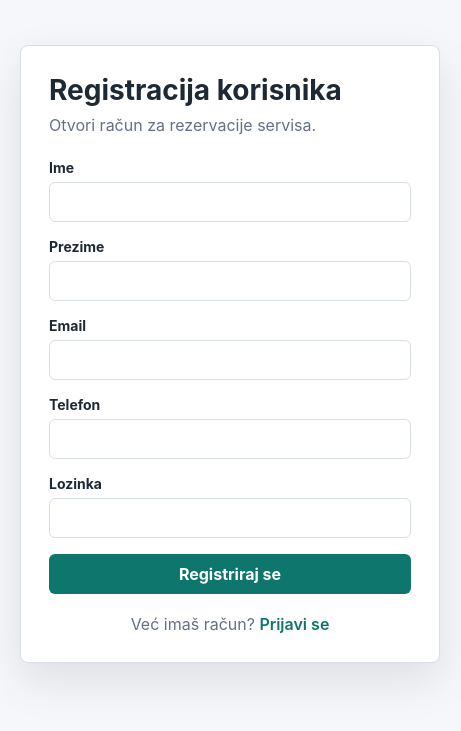
RegisterPage › shows an error message when registration fails
The width and height of the screenshot is (461, 731).
Type "Ana" into the field labelled "Ime" at (230, 202), box x1=49 y1=182 x2=411 y2=222
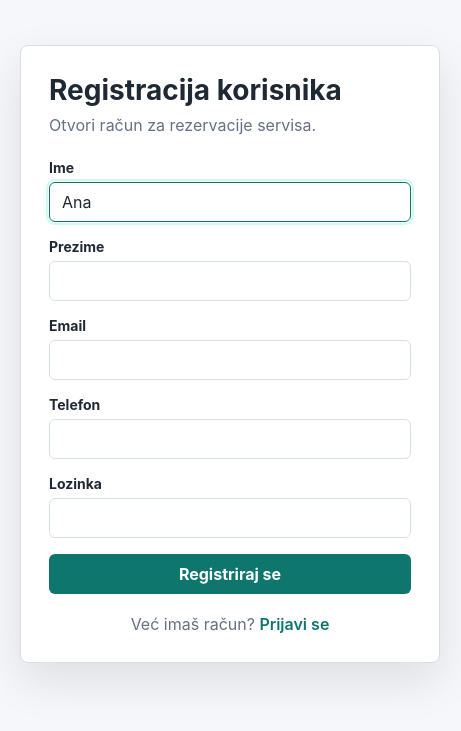
Type "Anic" into the field labelled "Prezime" at (230, 281), box x1=49 y1=261 x2=411 y2=301
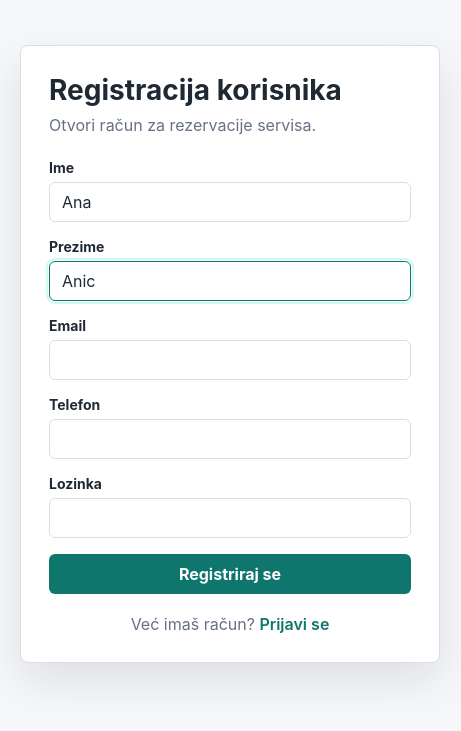
Type "ana@example.com" into the field labelled "Email" at (230, 360), box x1=49 y1=340 x2=411 y2=380
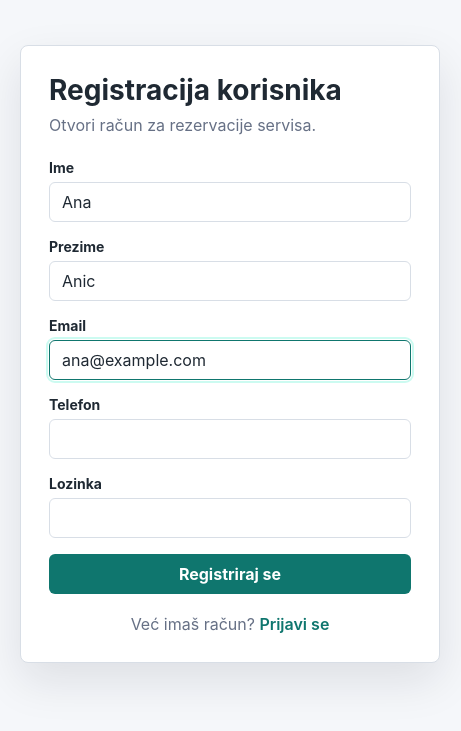
Type "tajna-lozinka" into the password field labelled "Lozinka" at (230, 518), box x1=49 y1=498 x2=411 y2=538
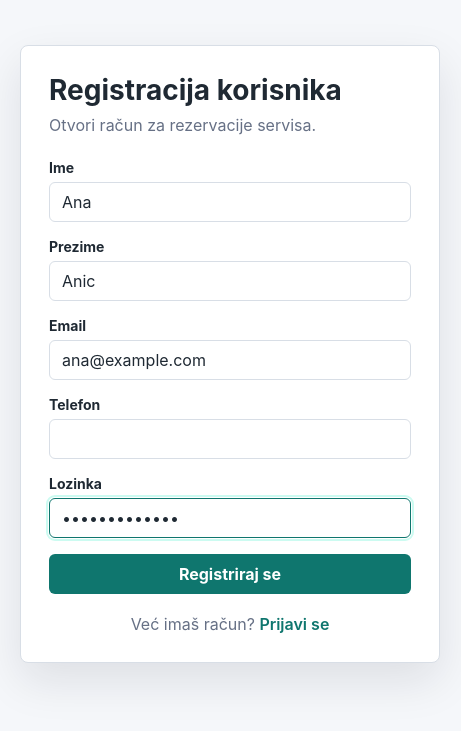
Click the button "Registriraj se" at (230, 574), box x1=49 y1=554 x2=411 y2=594
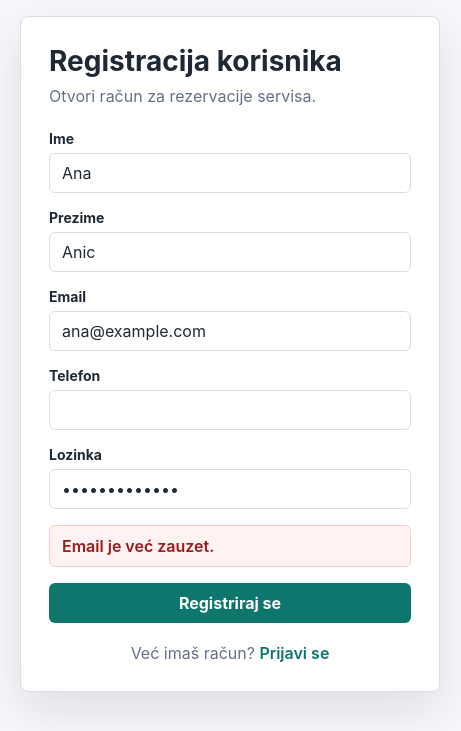
Now the message reads "Email je već zauzet.", box x1=62 y1=536 x2=214 y2=556
